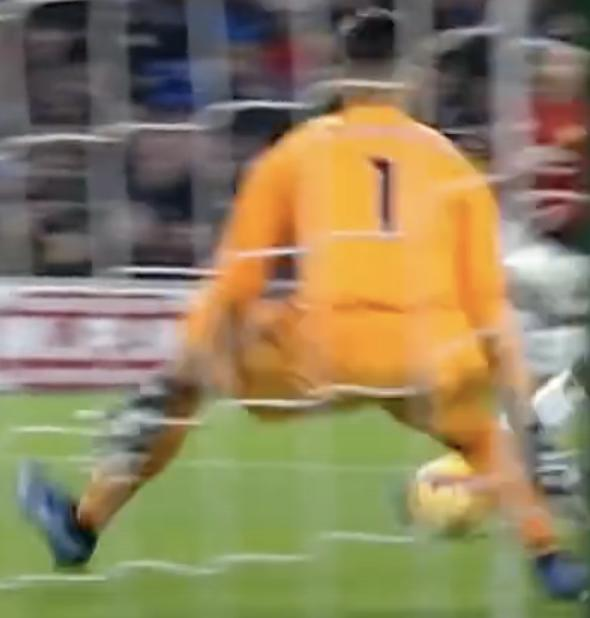ball: (389, 429, 513, 568)
goalkeeper: (0, 0, 590, 618)
